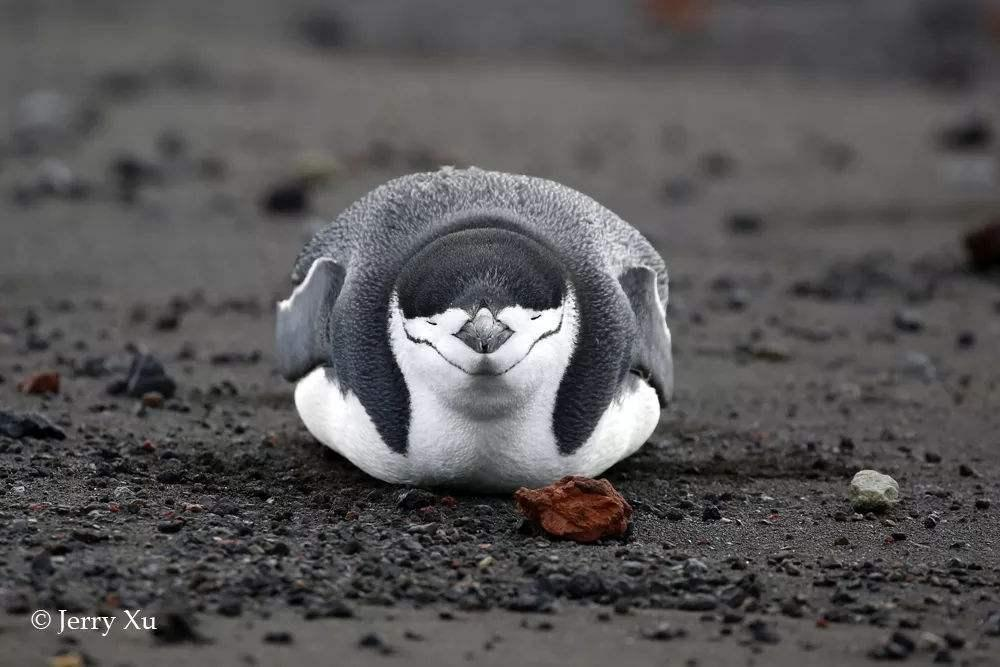Penguin: (277, 168, 673, 491)
